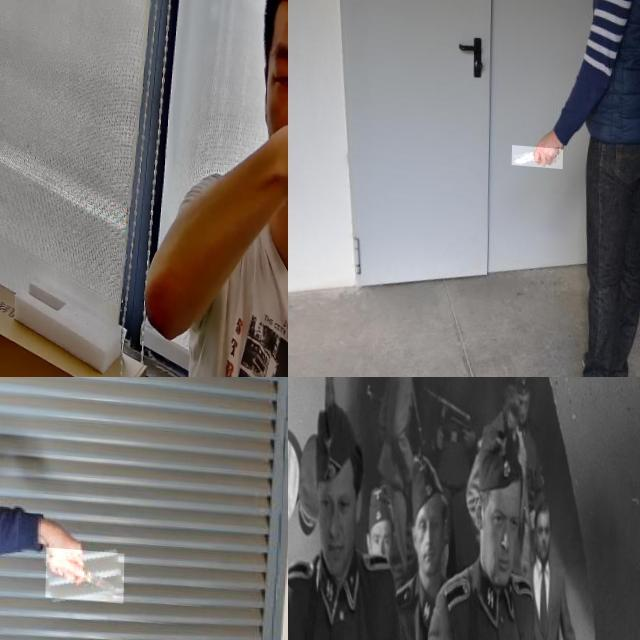-: (47, 542, 126, 598), (512, 140, 564, 163)
